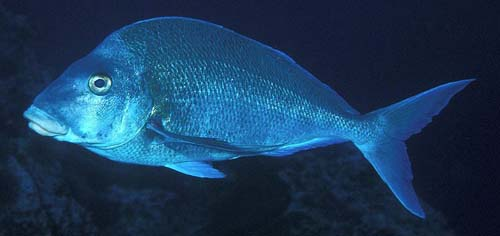fish: (24, 16, 475, 219)
